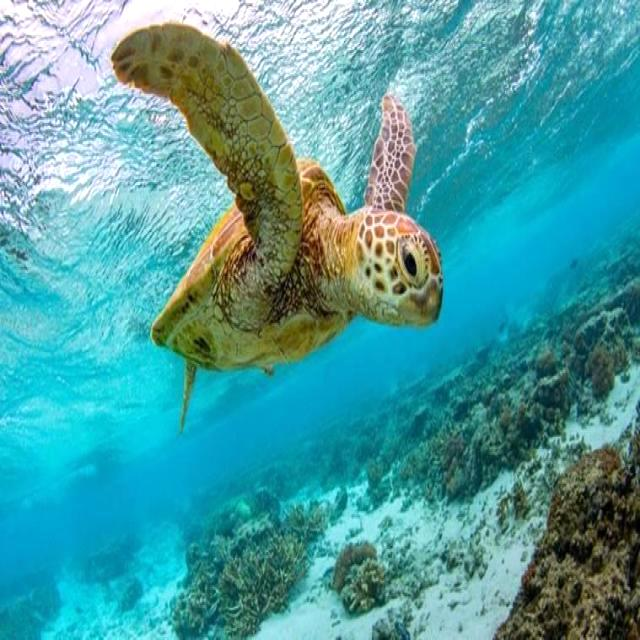Sea turtle: (112, 20, 446, 440)
